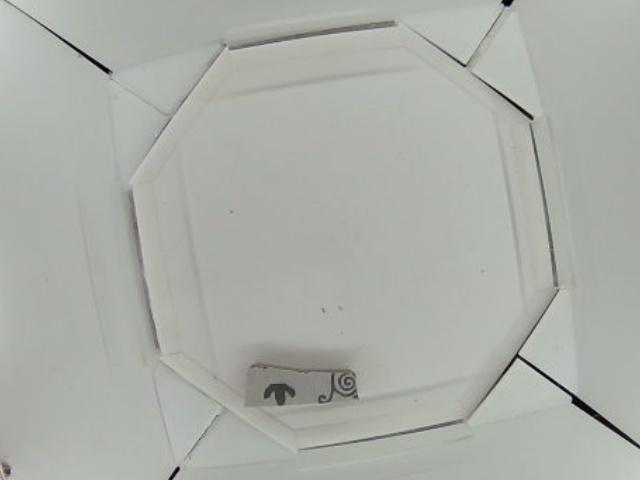China: (245, 364, 360, 406)
